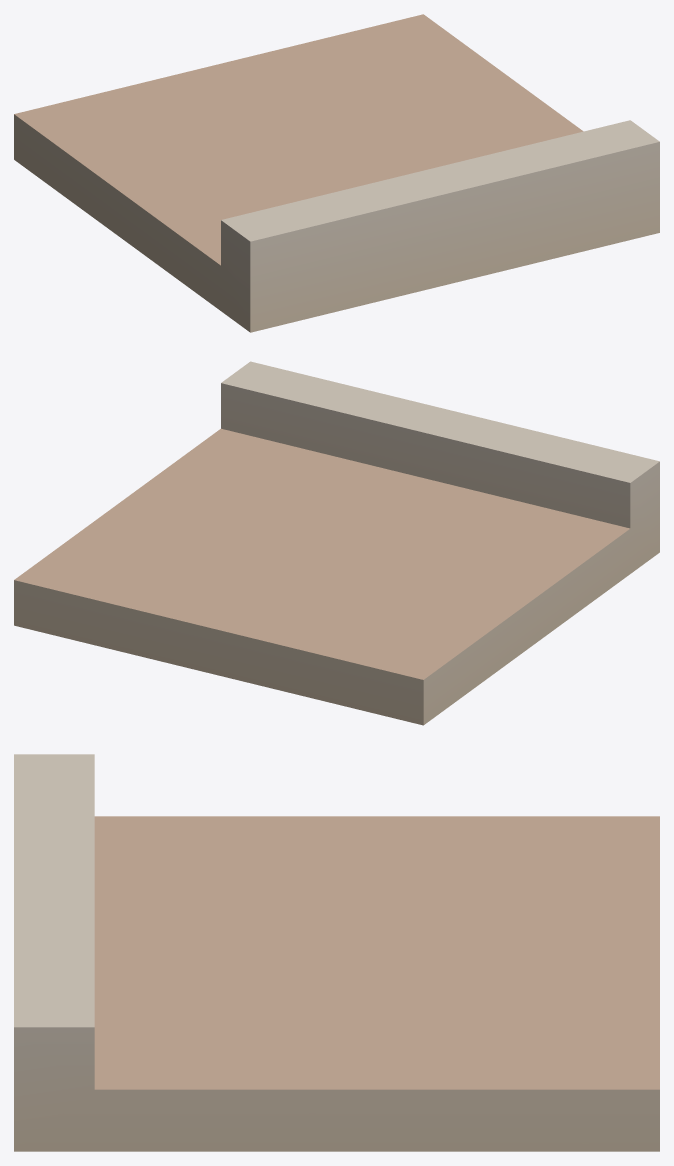
File: roof-flat-border-side.glb
3 renders of one model, top to bottom at view 1: azimuth 30°, elevation 25°; view 2: azimuth 150°, elevation 25°; view 3: azimuth 270°, elevation 25°, orthographic. The views are drawn at different scales.
Parts seen in each view (by area): view 1: roof-flat-border-side; view 2: roof-flat-border-side; view 3: roof-flat-border-side.
Part boxes in pixels (bbox=[...]): roof-flat-border-side: bbox=[14, 14, 659, 332]; roof-flat-border-side: bbox=[14, 361, 659, 725]; roof-flat-border-side: bbox=[14, 754, 659, 1151].
Size of the model in its own units: 1 by 0.2125 by 1.
